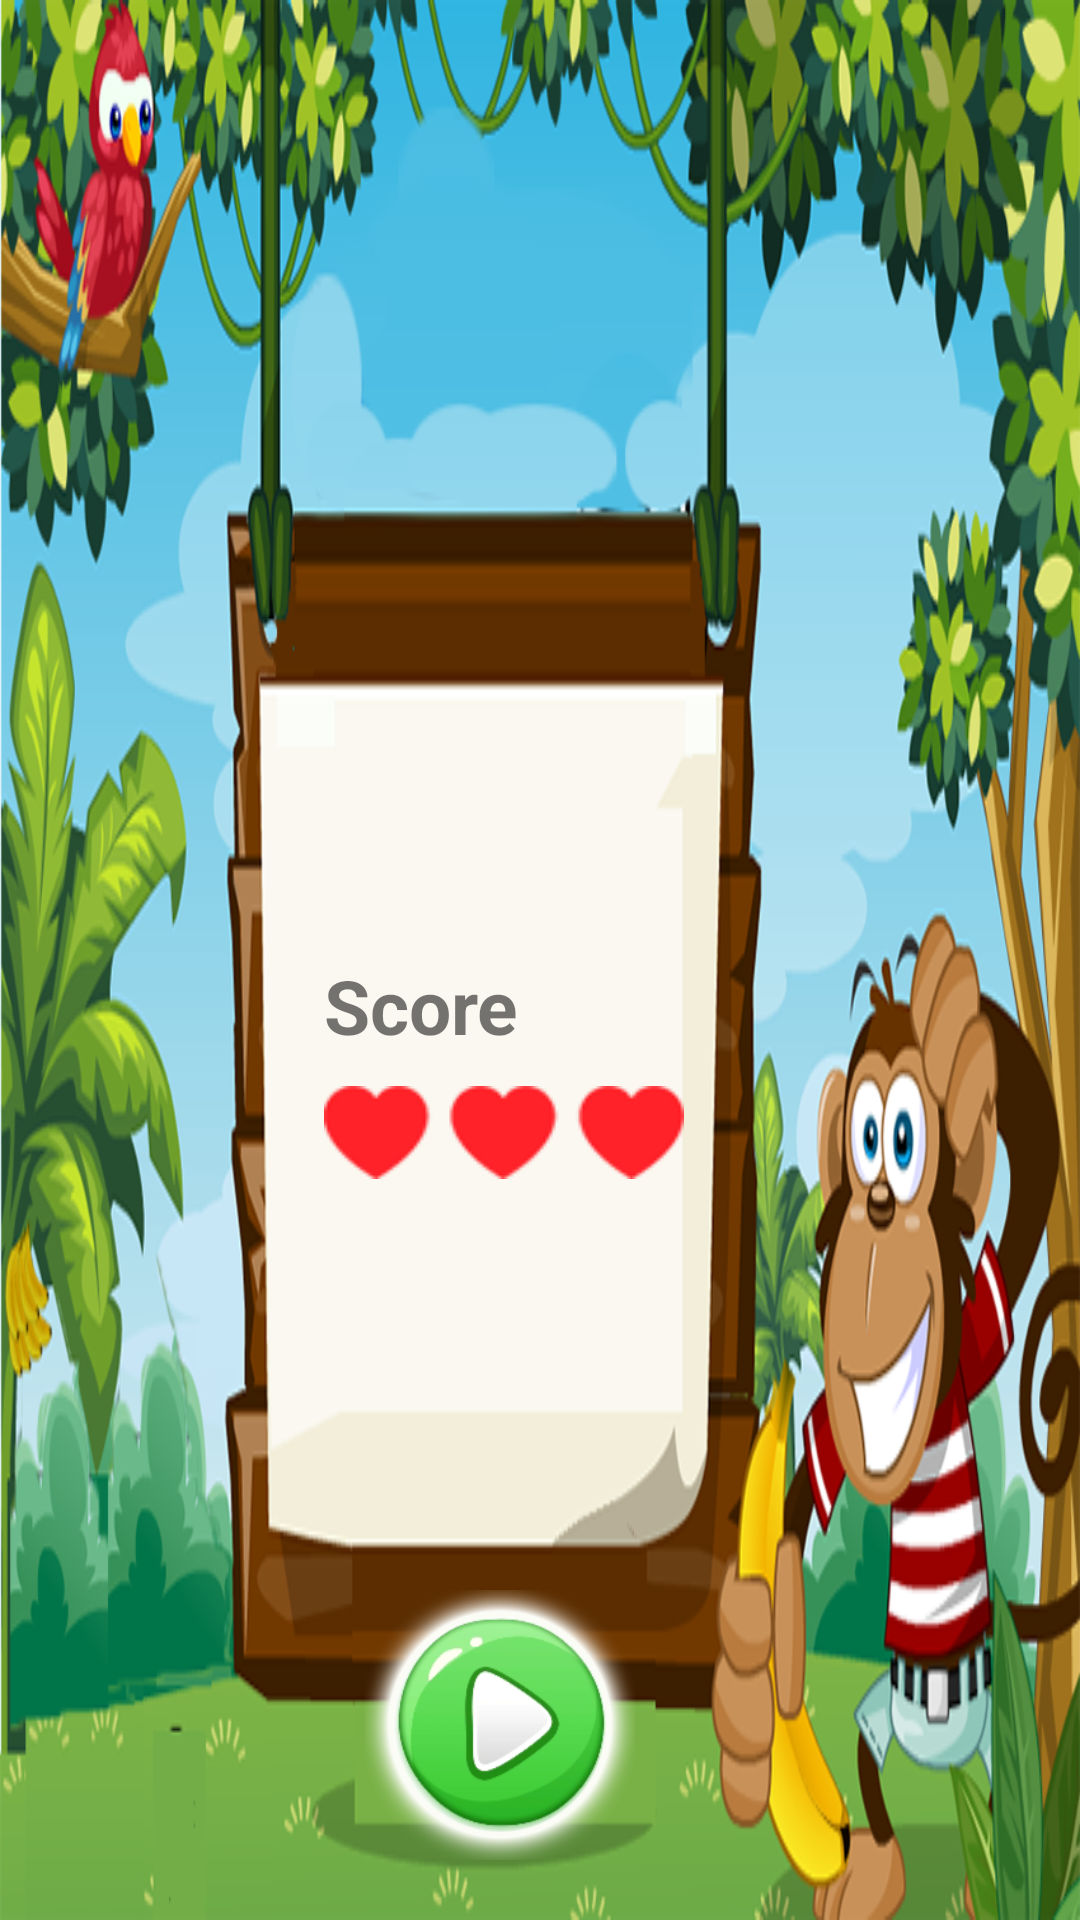

Where to tap for icons on this 1080px x 1920px app screen, as point (x, y):
play: point (500, 1725)
